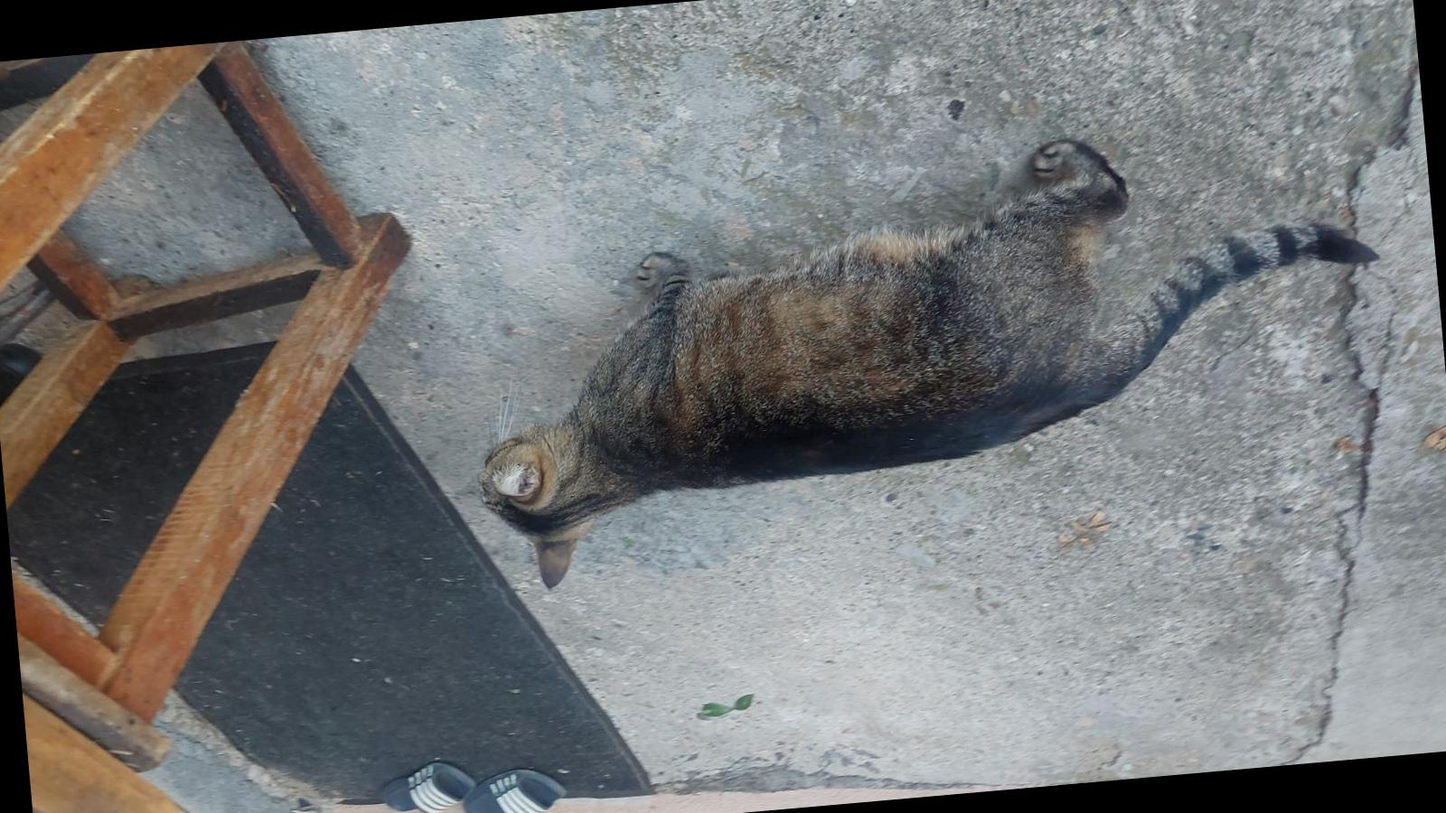macka: (454, 113, 1398, 595)
